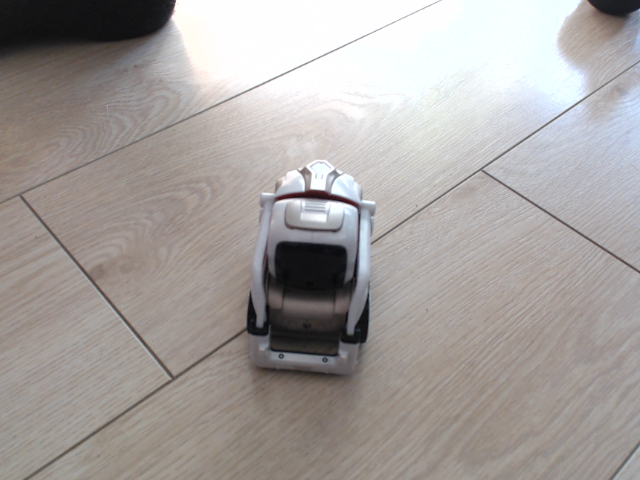cozmo: (244, 156, 379, 391)
